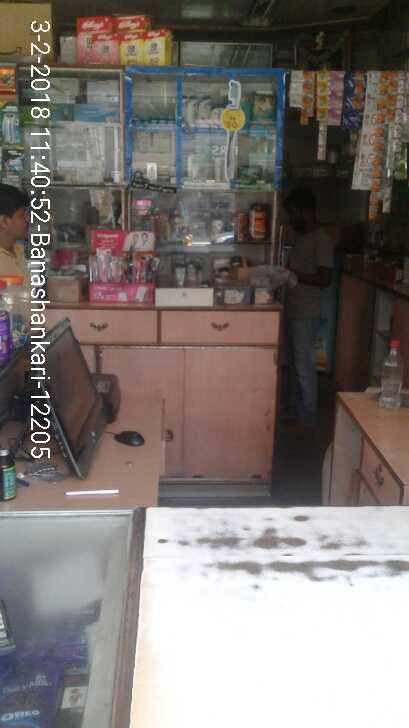beauty: (240, 165, 262, 181), (198, 95, 211, 119), (186, 97, 199, 119)
pharmacy: (253, 88, 276, 126)
